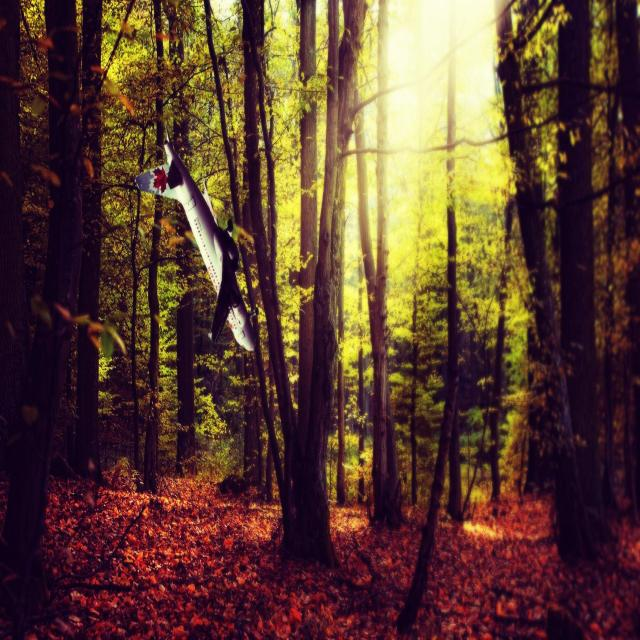airplane: (134, 121, 258, 352)
